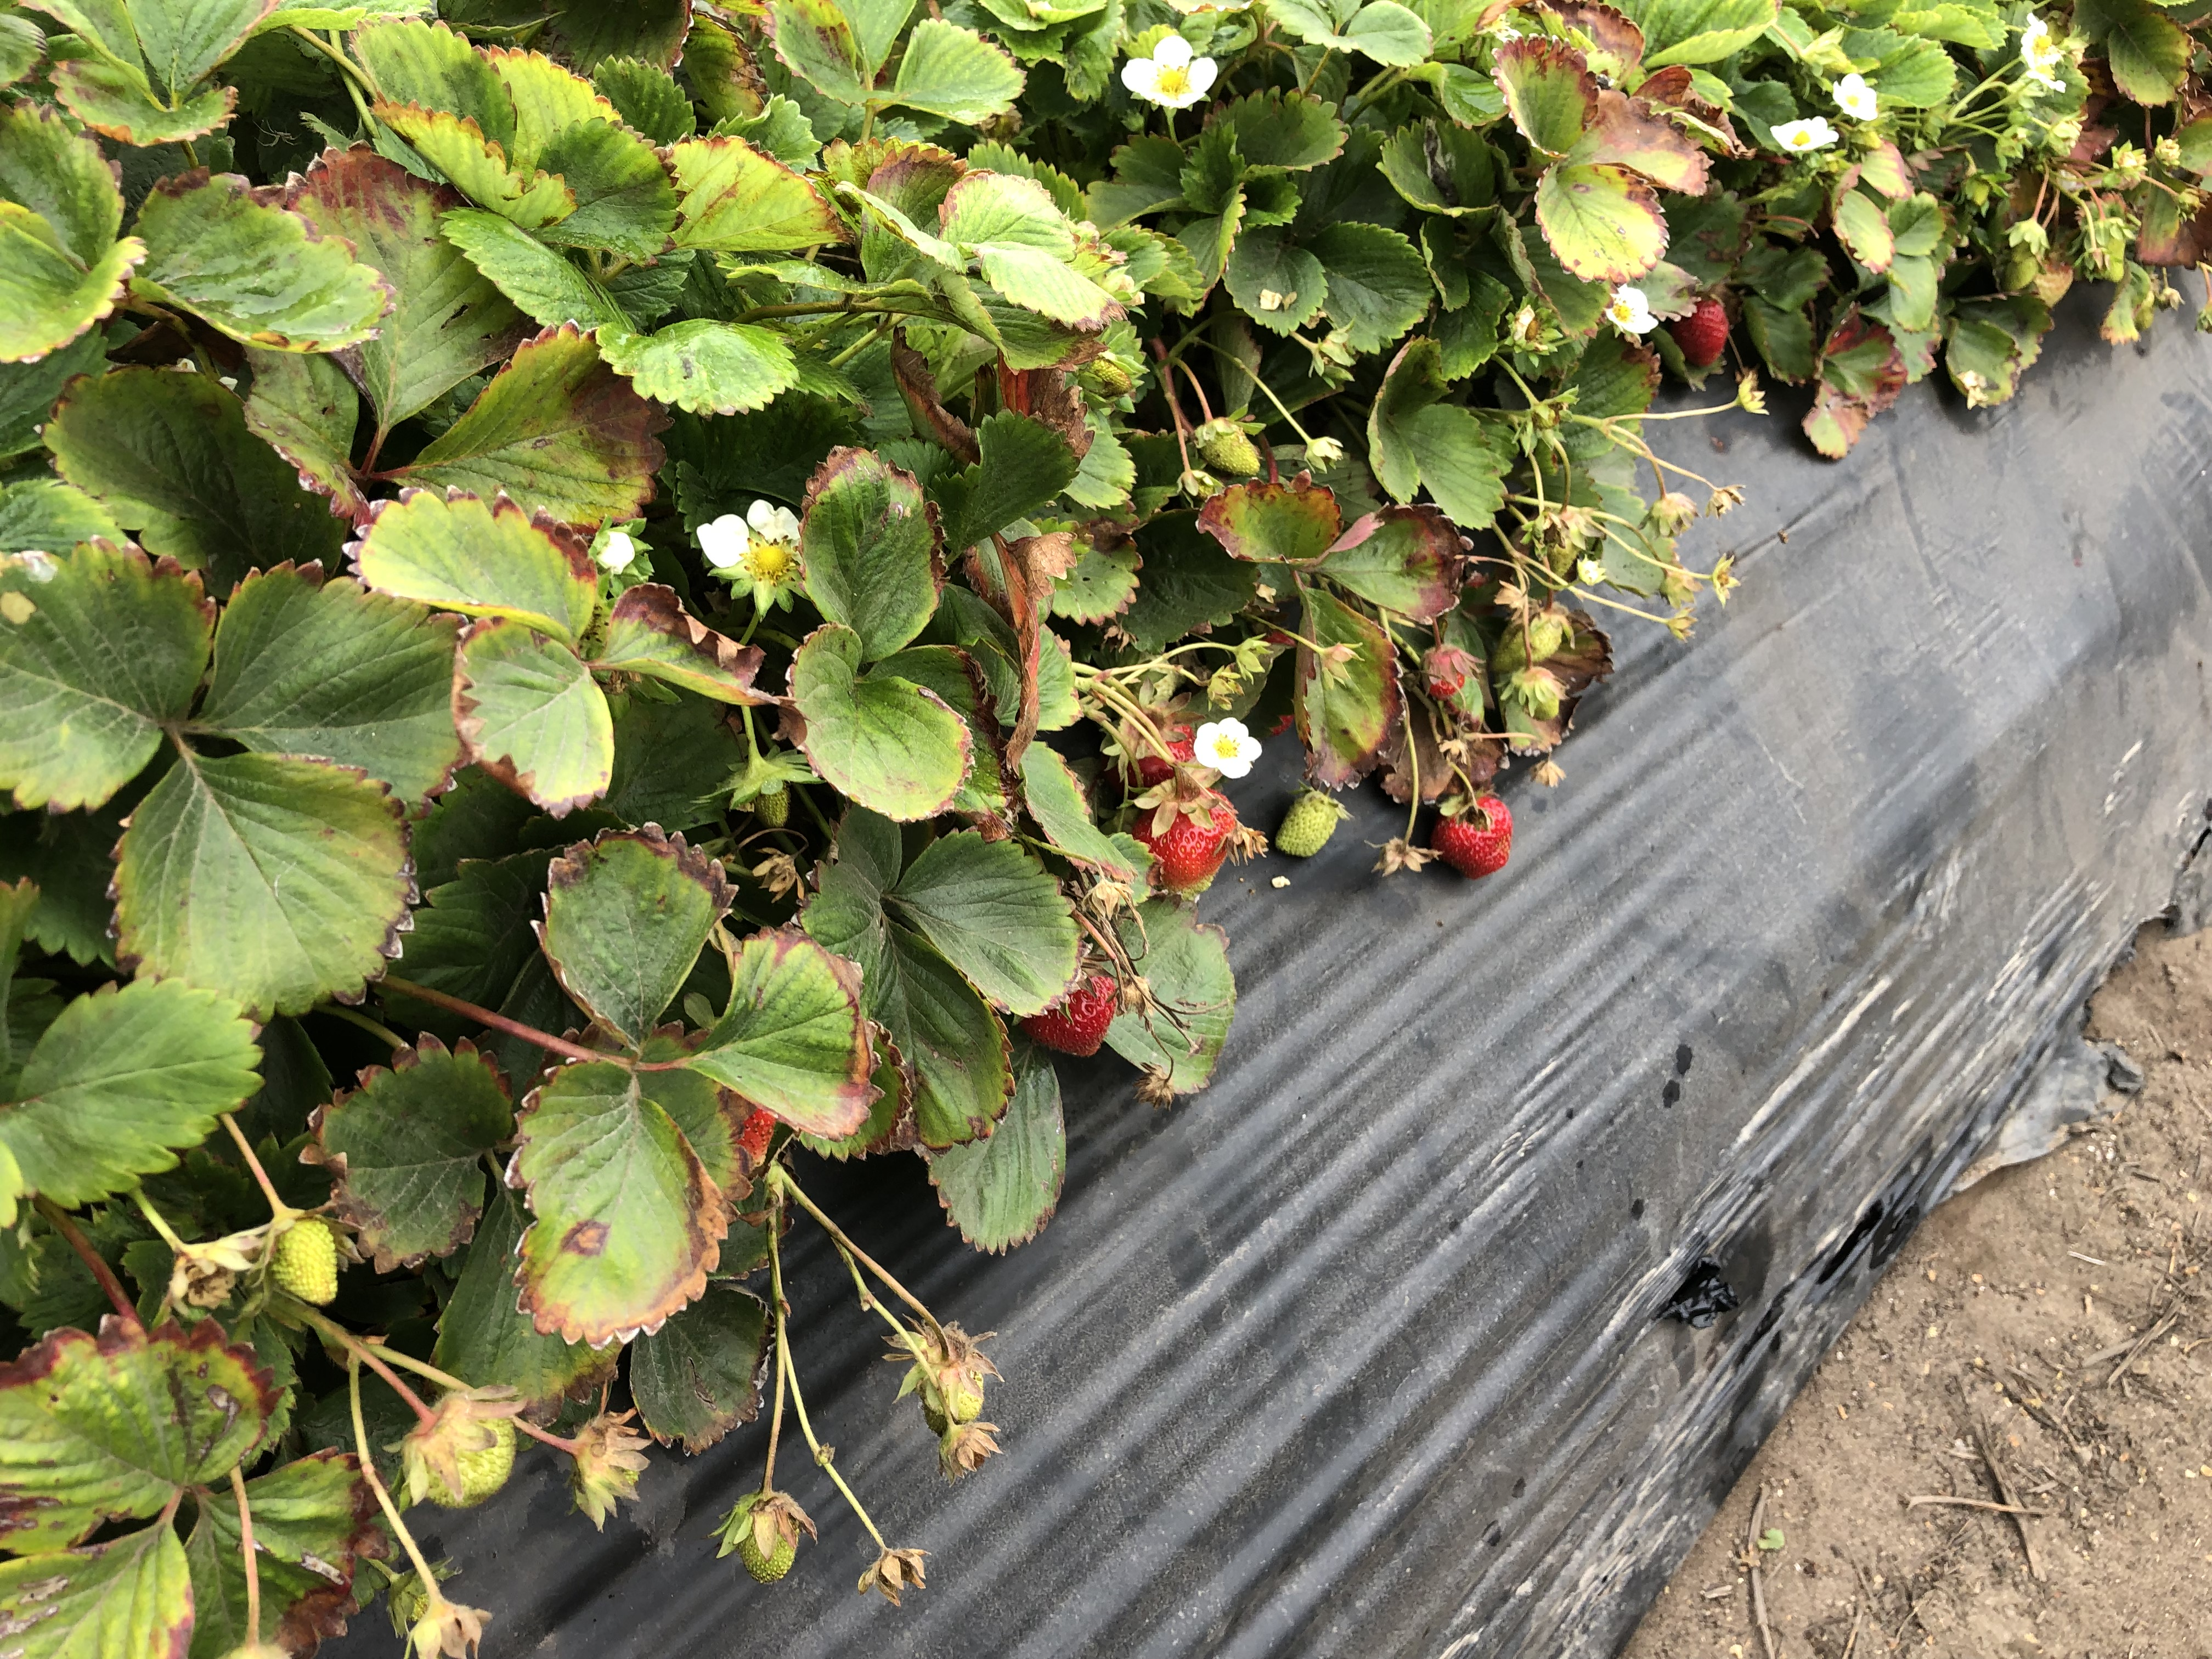ripe_strawberry: (1132, 788, 1244, 903), (1024, 964, 1122, 1061), (1428, 791, 1519, 880), (1669, 291, 1730, 371), (1418, 645, 1467, 699)
unripe_strawberry: (413, 1398, 523, 1511), (732, 1488, 803, 1593), (268, 1213, 345, 1307), (920, 1352, 995, 1427), (1190, 418, 1271, 486), (1268, 786, 1339, 863), (1493, 603, 1566, 673), (2080, 214, 2130, 284), (1993, 228, 2045, 291), (745, 775, 799, 831), (1076, 357, 1134, 406)
